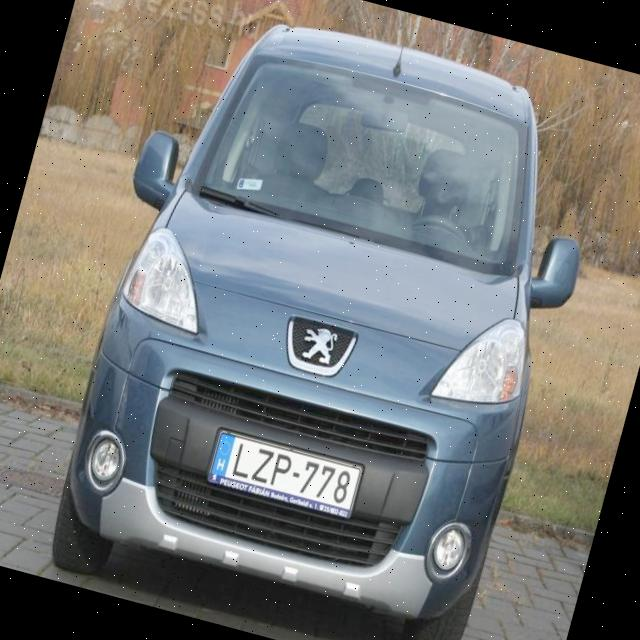licence: (201, 422, 369, 526)
